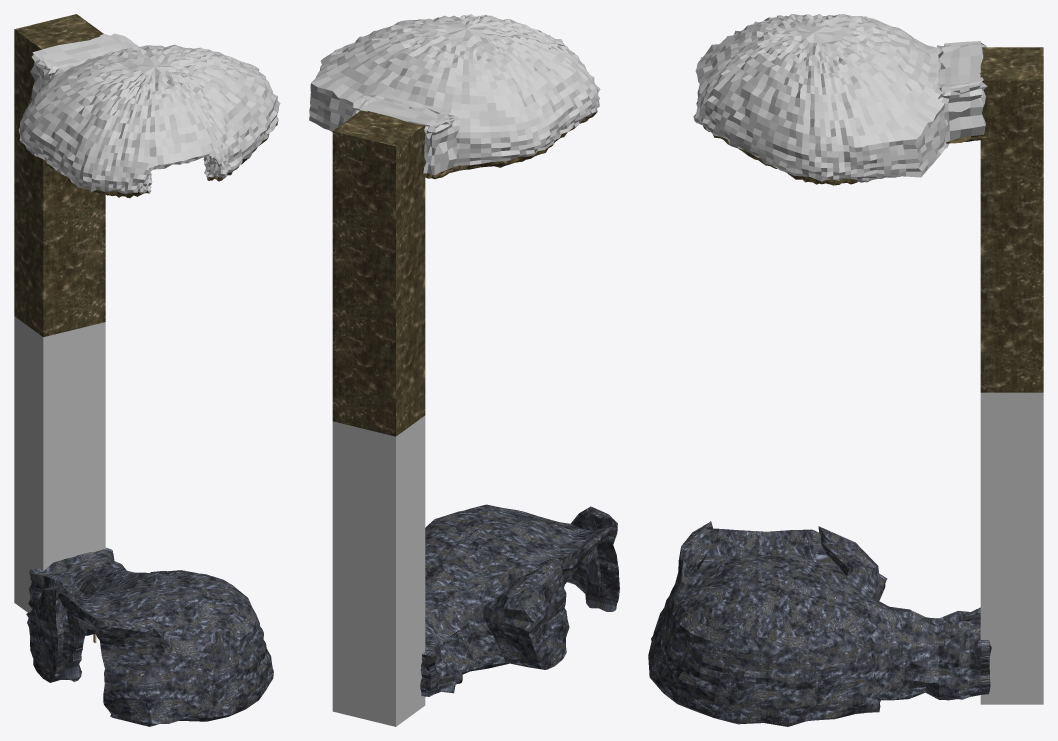
File: corr.fbx
3 renders of one model, left to right at view 1: azimuth 30°, elevation 25°; view 2: azimuth 150°, elevation 25°; view 3: azimuth 270°, elevation 25°, orthographic. The views are drawn at different scales.
Visible parts, largest first — view 1: tunel, cuevadown, cuevaint, Cube; view 2: tunel, cuevaint, cuevadown, Cube; view 3: cuevadown, tunel, cuevaint, Cube.
Boxes of the visible parts, x1,y1,x2,y2 form: tunel: (14,14,105,612); cuevadown: (26,547,273,726); cuevaint: (18,44,280,198); Cube: (30,33,138,101); tunel: (332,110,425,726); cuevaint: (309,14,600,172); cuevadown: (420,504,619,696); Cube: (351,96,460,179); cuevadown: (648,521,991,726); tunel: (980,47,1043,704); cuevaint: (693,14,949,185); Cube: (934,41,987,143).
Bounding box in the file's own units: 3467 × 8545 × 4654.
